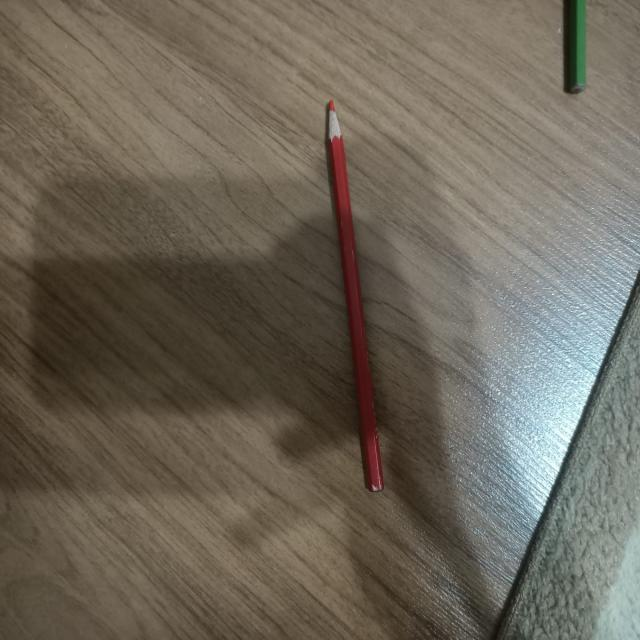pencil: (324, 100, 384, 491)
